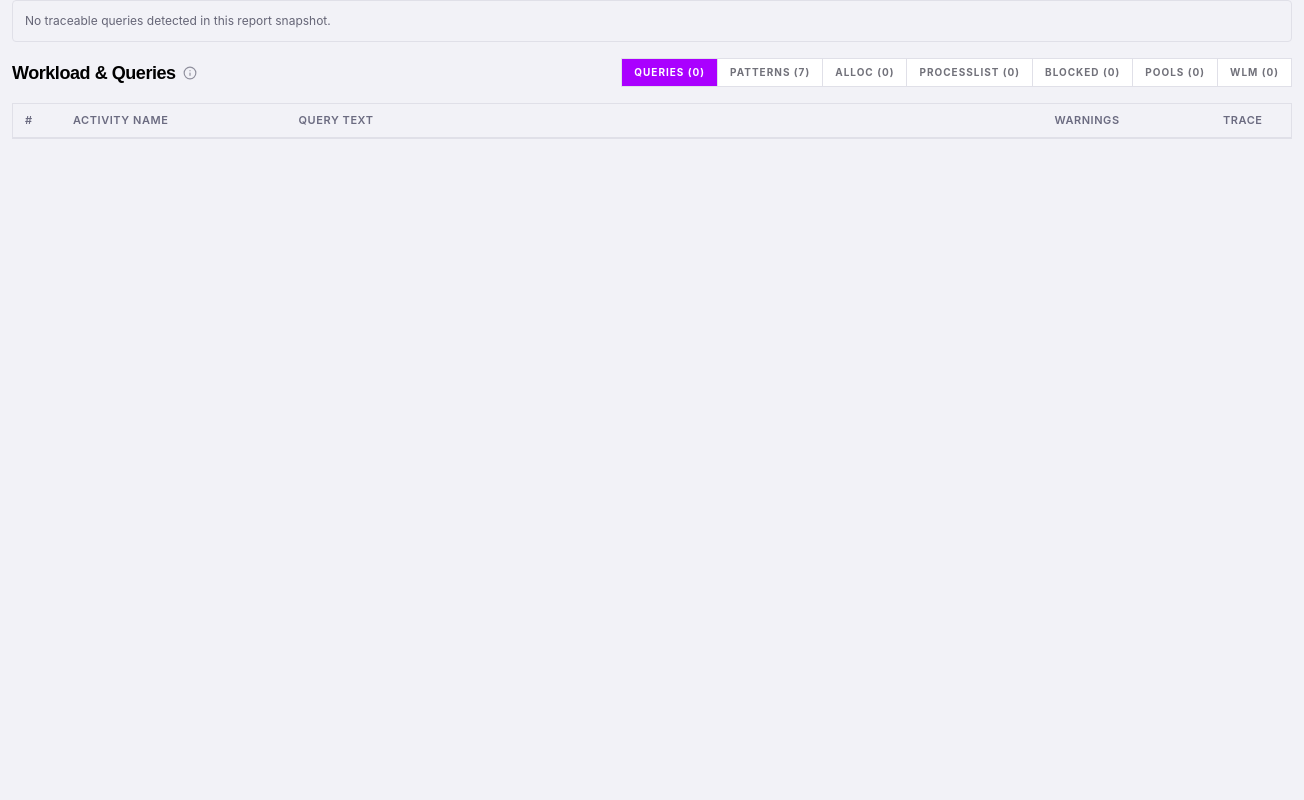
Test: WorkloadQueries deep-link › uses backend summary counts instead of truncated pattern arrays
Click the button with test id "queries-tab-patterns": x=771, y=72 left=718, top=59, right=823, bottom=86
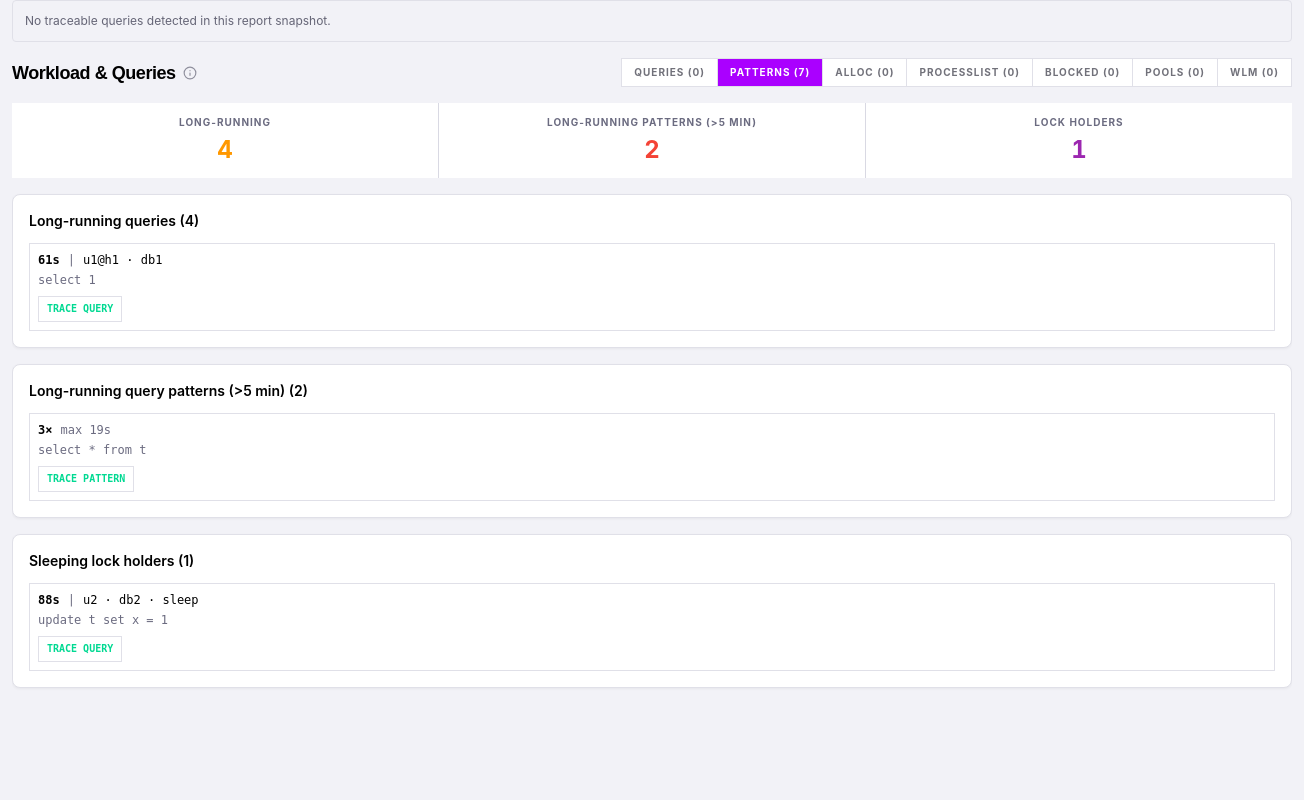
Check: the heading "Long-running queries (4)" is shown, box left=29, top=212, right=199, bottom=229
Check: the heading "Long-running query patterns (>5 min) (2)" is shown, box left=29, top=382, right=308, bottom=399
Check: the heading "Sleeping lock holders (1)" is shown, box left=29, top=552, right=194, bottom=569
